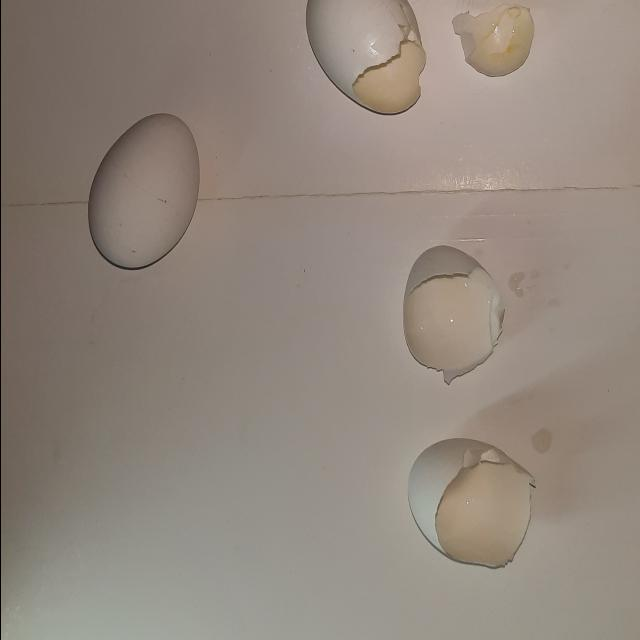egg shell: (392, 228, 518, 398), (83, 104, 207, 274), (396, 430, 540, 572), (292, 1, 442, 122), (448, 0, 540, 81)
